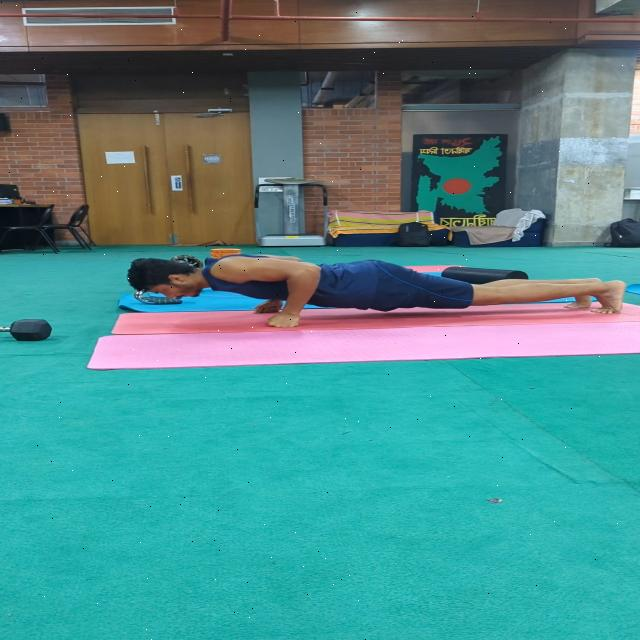Normal_PushUps: (86, 250, 634, 343)
